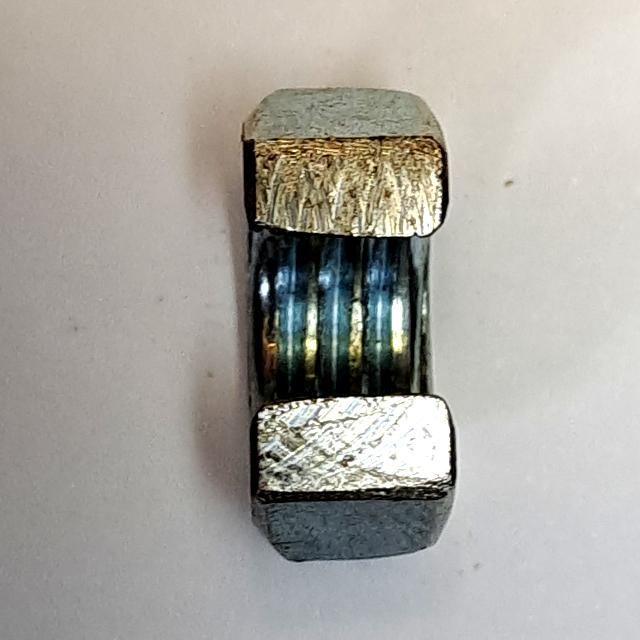Side-Fracture: (224, 72, 472, 575)
